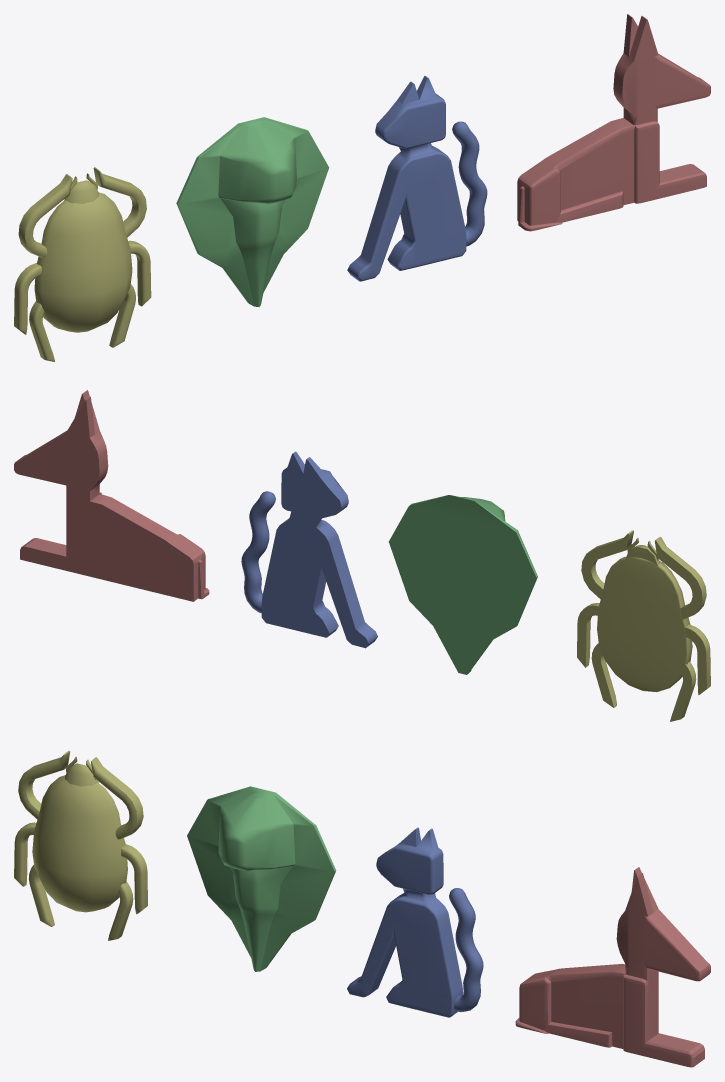
Rendered from Puzzle Pieces.fbx.
3 renders of one model, top to bottom at view 1: azimuth 30°, elevation 25°; view 2: azimuth 150°, elevation 25°; view 3: azimuth 330°, elevation 25°, orthographic. The views are drawn at different scales.
Visible parts, largest first — view 1: pCube1, asdsa, polySurface4, pCube7; view 2: pCube1, polySurface4, asdsa, pCube7; view 3: pCube1, asdsa, polySurface4, pCube7.
Boxes of the visible parts, <box> form: pCube1: <box>176,117,329,307</box>; asdsa: <box>517,14,710,231</box>; polySurface4: <box>14,167,151,361</box>; pCube7: <box>347,76,487,281</box>; pCube1: <box>388,495,537,674</box>; polySurface4: <box>577,530,710,721</box>; asdsa: <box>14,390,209,601</box>; pCube7: <box>241,451,377,648</box>; pCube1: <box>187,786,336,971</box>; asdsa: <box>515,867,710,1067</box>; polySurface4: <box>14,750,147,940</box>; pCube7: <box>347,827,483,1017</box>.
Bounding box in the file's own units: 9.92 × 2.64 × 0.8517.
